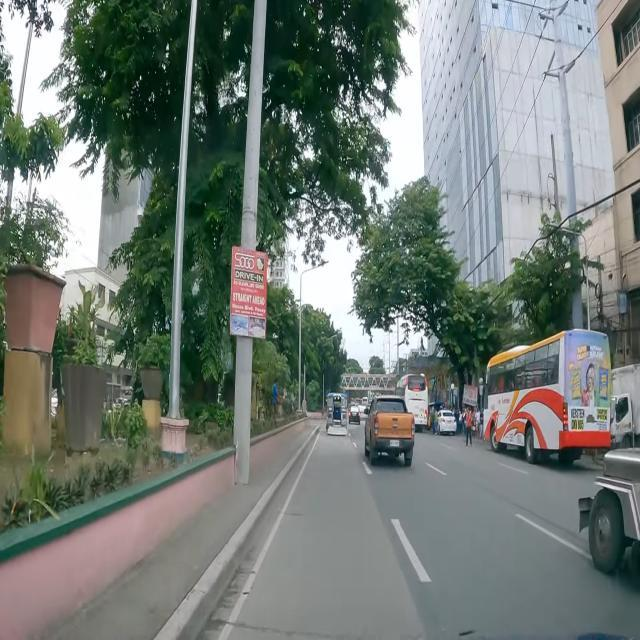bus: (479, 328, 612, 466), (396, 374, 428, 434), (362, 397, 368, 405)
car: (364, 396, 414, 466), (437, 408, 457, 434), (349, 406, 360, 424)
jeepney: (578, 448, 640, 574), (326, 392, 348, 437)
truck: (610, 364, 640, 447)
